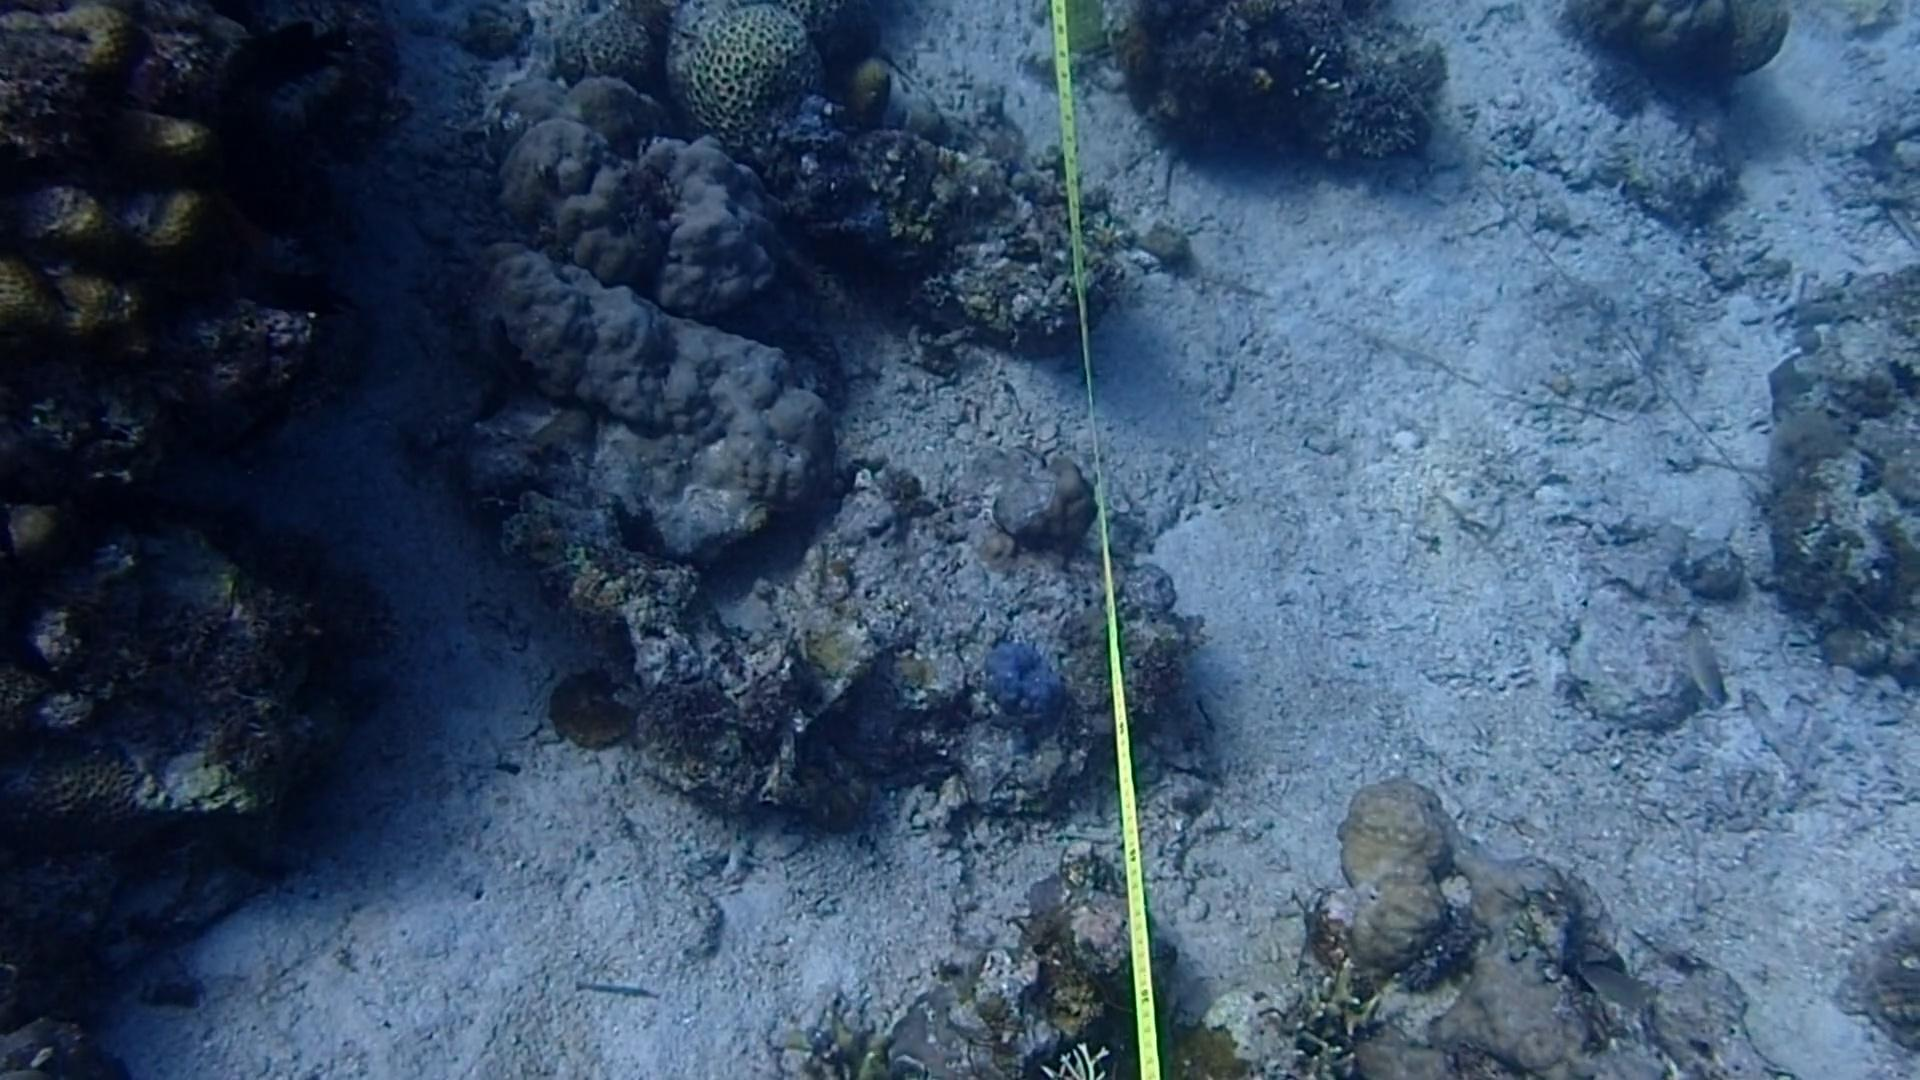Dark Fish: (186, 795, 303, 893), (218, 256, 349, 332), (446, 313, 541, 401), (237, 13, 332, 99)
Light Fish: (1673, 621, 1731, 709)
